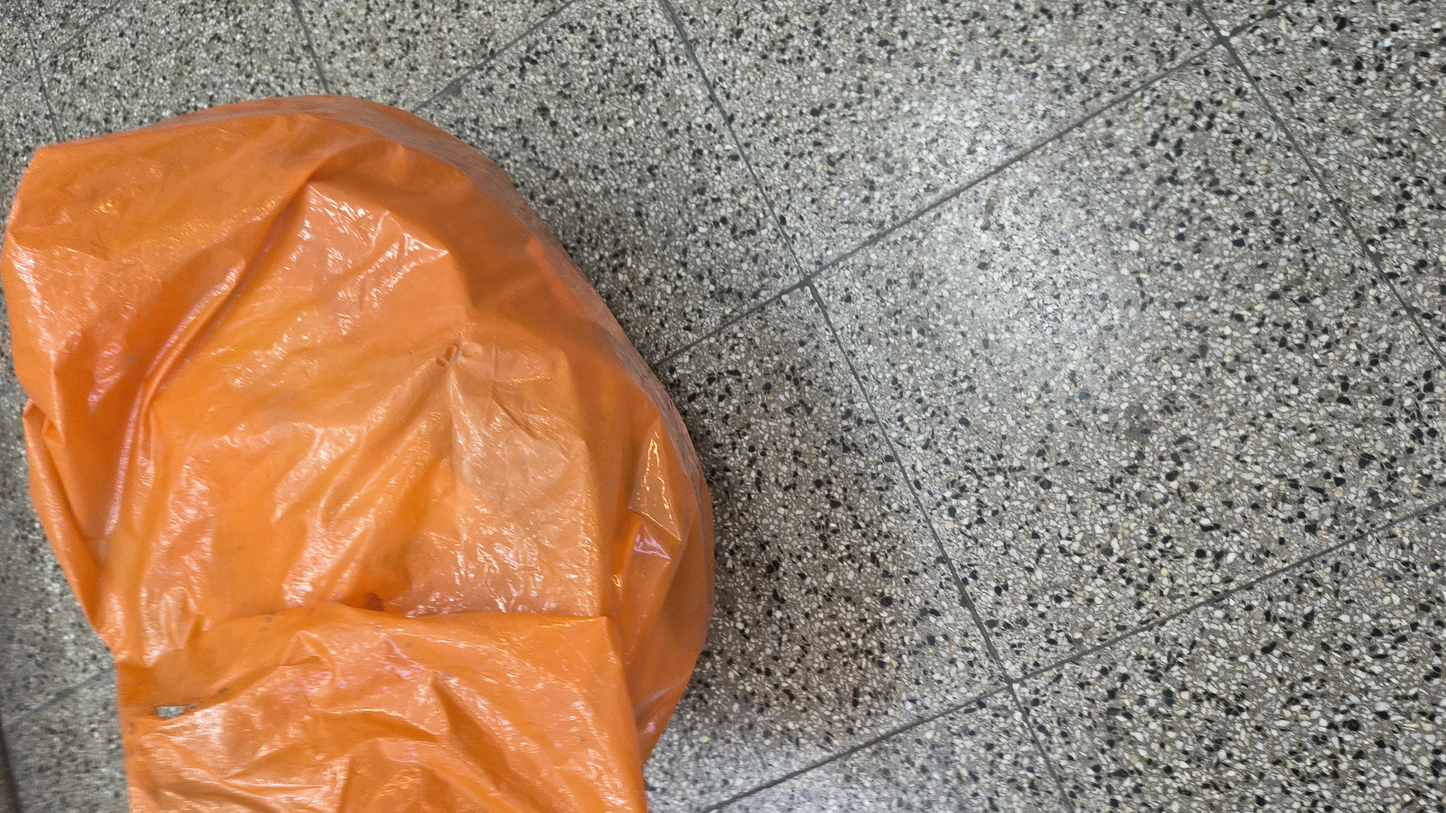Garbage: (704, 0, 1444, 734)
